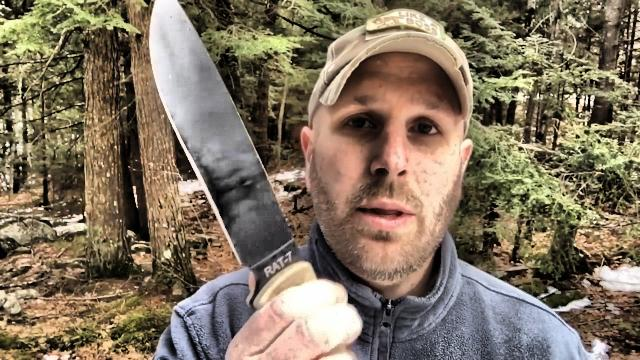knife: (142, 0, 348, 334)
